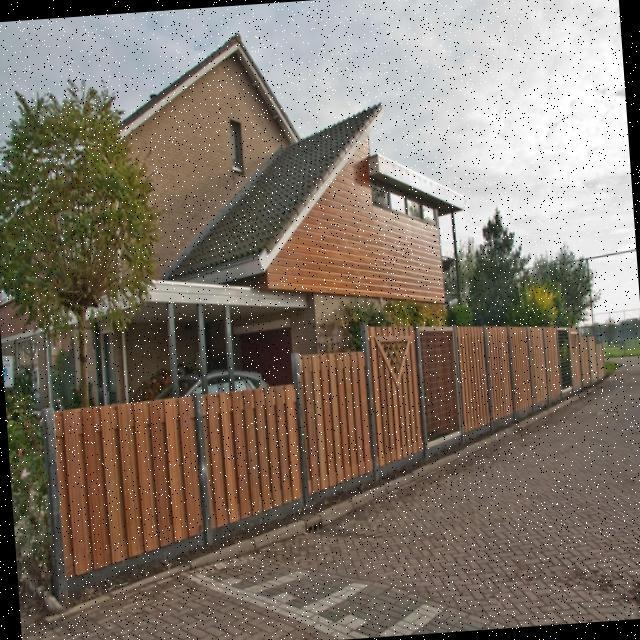fence line: (35, 359, 373, 582), (360, 311, 604, 476)
